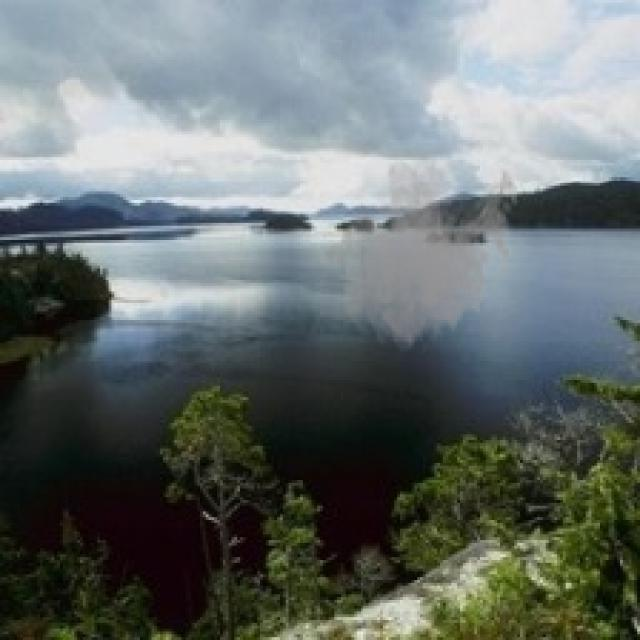Smoke: (323, 137, 523, 354)
